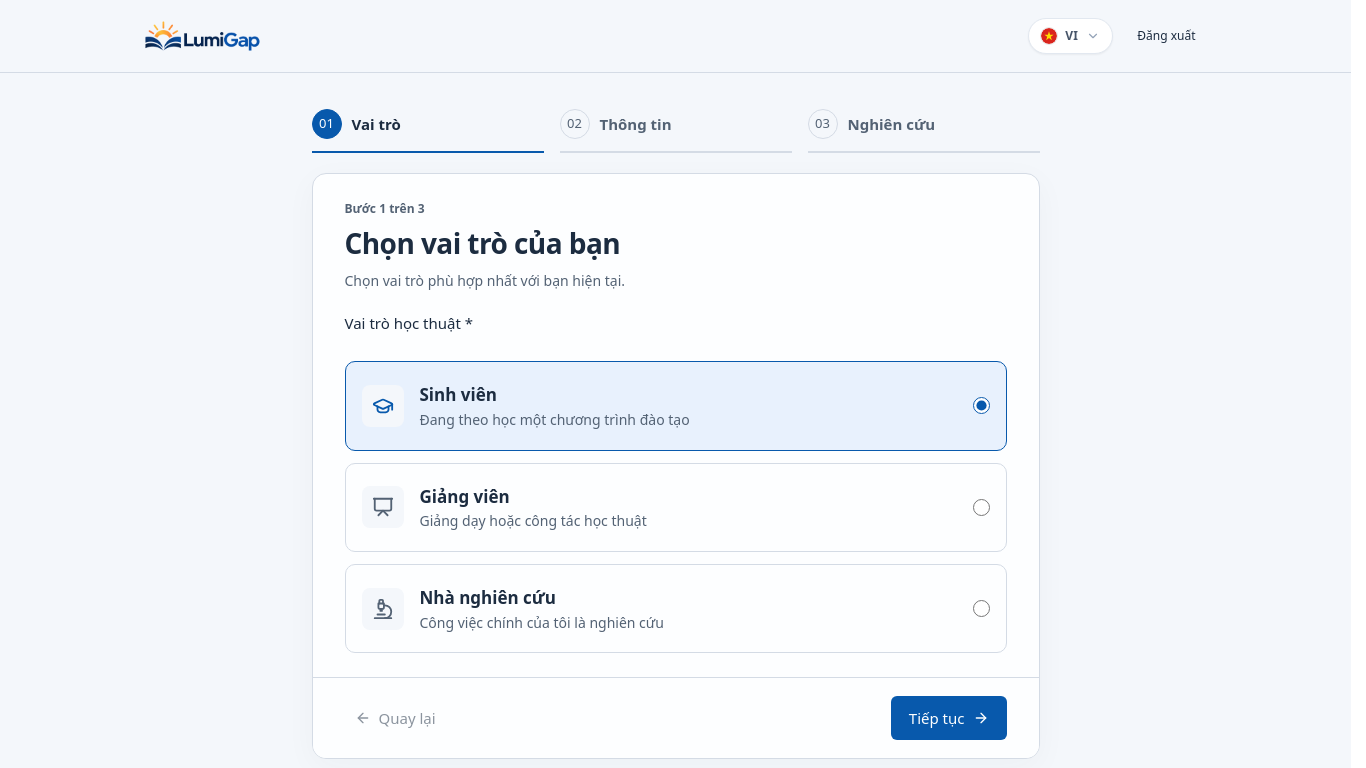
Test case: onboarding language › allows browser detection and switching even when storage is disabled
Press Enter in the button with aria-label "Change language", box x1=1028 y1=18 x2=1113 y2=54
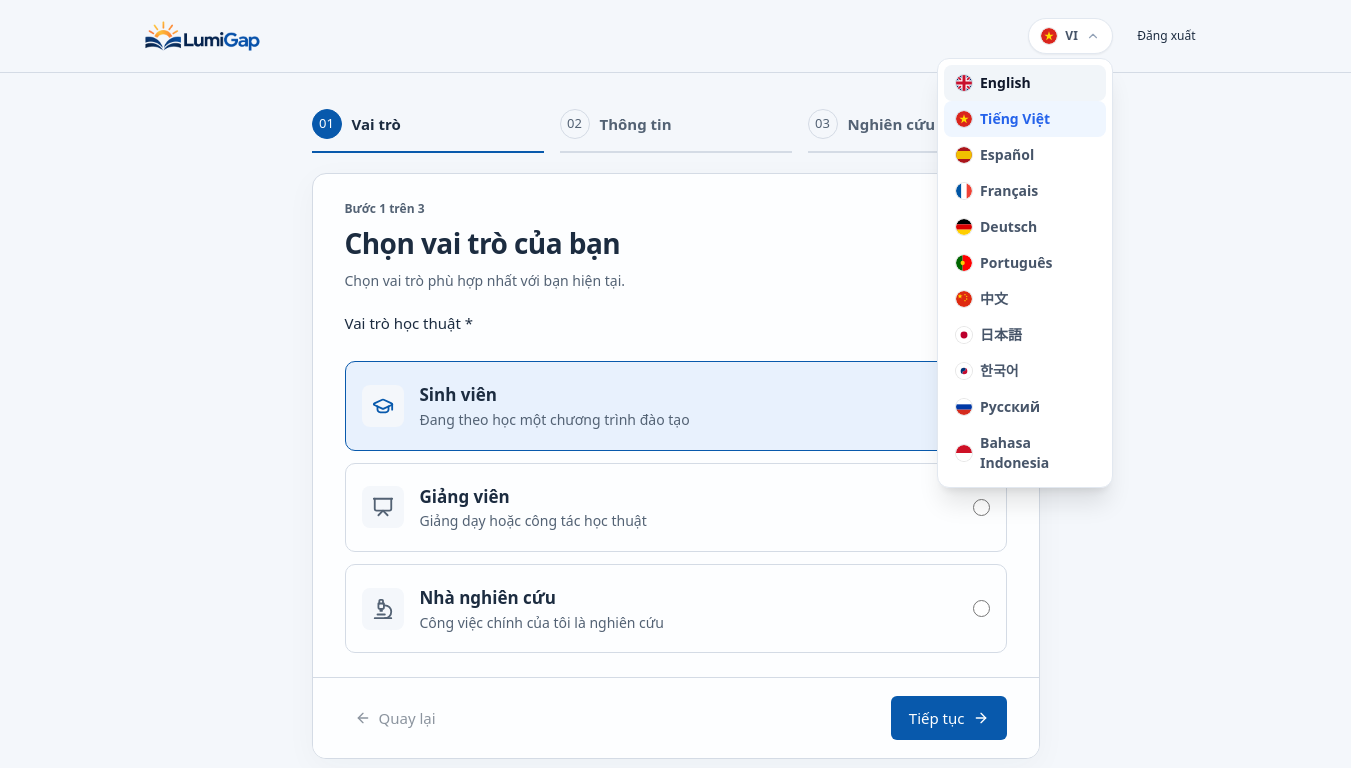
Click the menu item "English" at [1025, 83], box x1=944 y1=65 x2=1106 y2=101
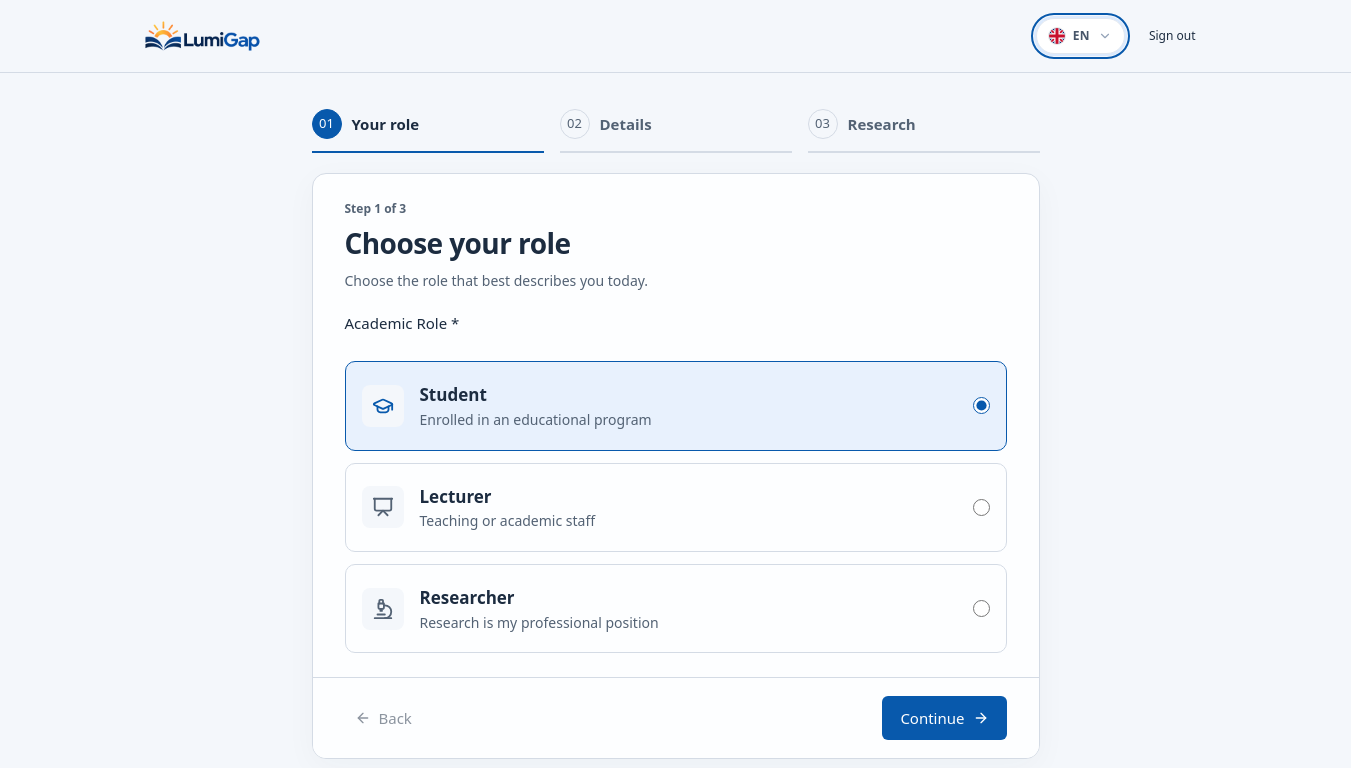
Result: the heading "Choose your role" is shown at x1=344 y1=224 x2=570 y2=262
